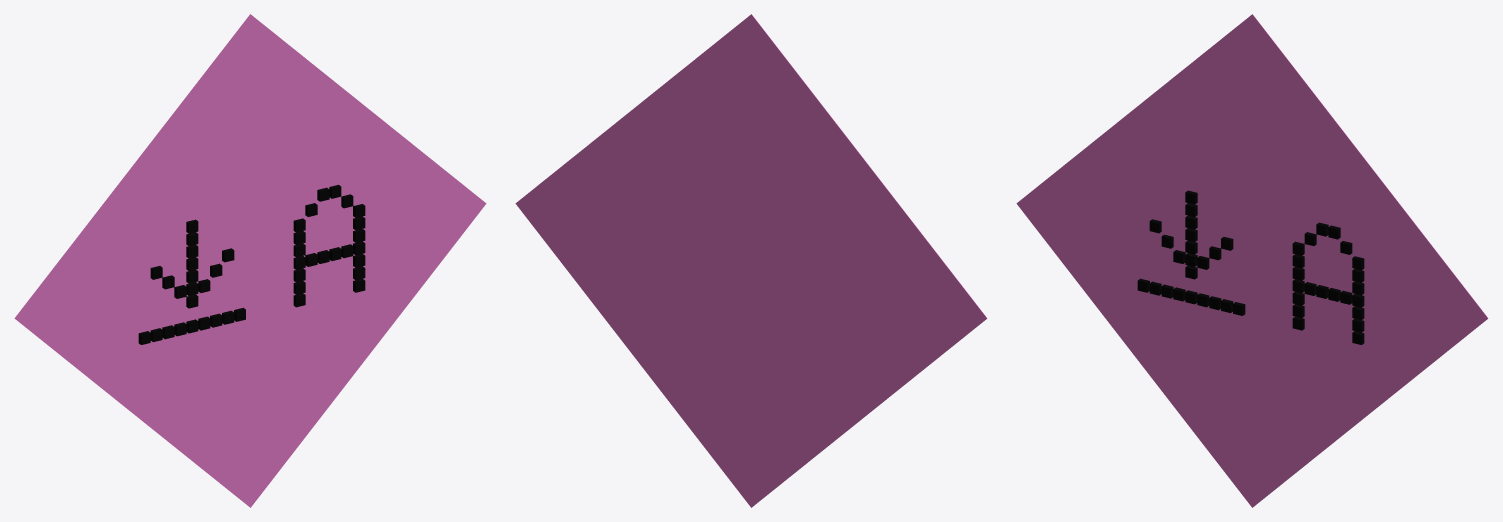
Rendered from ChangeAreaTypeA.fbx.
3 views of the same model, side by side, from view 1: azimuth 30°, elevation 25°; view 2: azimuth 150°, elevation 25°; view 3: azimuth 330°, elevation 25° (orthographic).
Parts seen in each view (by area): view 1: Cube.045; view 2: Cube.045; view 3: Cube.045.
Boxes of the visible parts, x1=… form: Cube.045: x1=14, y1=14, x2=486, y2=507; Cube.045: x1=515, y1=14, x2=987, y2=507; Cube.045: x1=1016, y1=14, x2=1488, y2=507.
Size of the model in its own units: 198 by 198 by 2.1.
